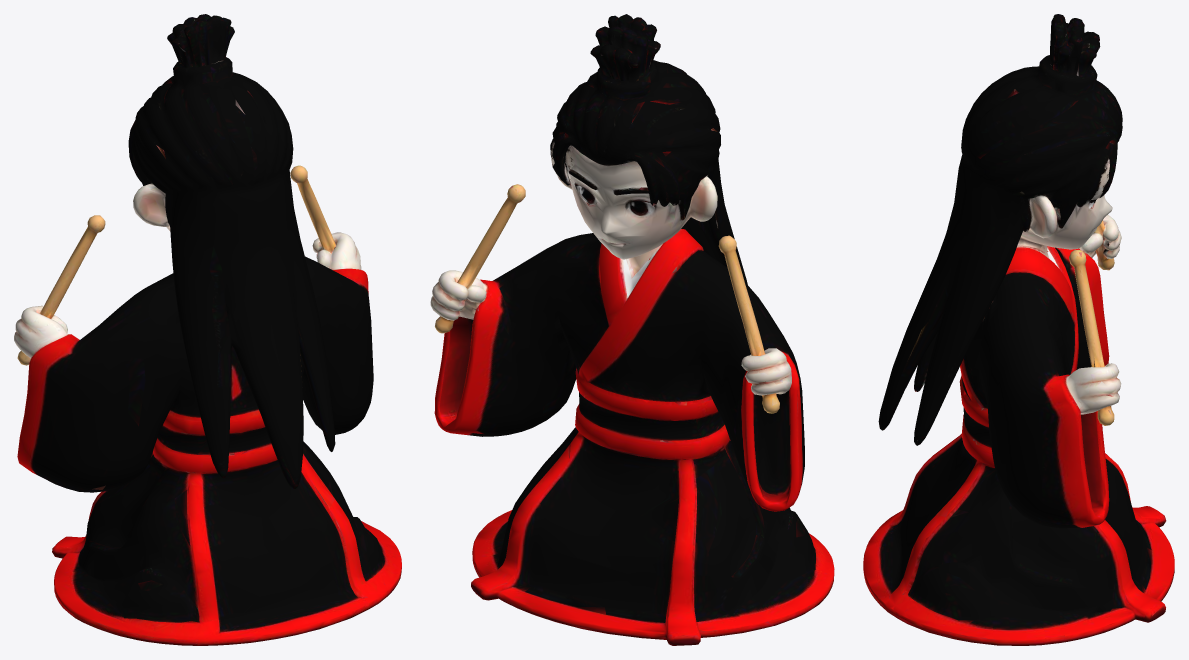
The model's file is musician.glb.
3 views of the same model, side by side, from view 1: azimuth 30°, elevation 25°; view 2: azimuth 150°, elevation 25°; view 3: azimuth 270°, elevation 25° (orthographic). The views are drawn at different scales.
Visible parts, largest first — view 1: musician; view 2: musician; view 3: musician.
Boxes of the visible parts, x1=… form: musician: x1=14, y1=14, x2=401, y2=645; musician: x1=430, y1=14, x2=834, y2=645; musician: x1=863, y1=14, x2=1174, y2=645.
Bounding box in the file's own units: 0.6713 × 1 × 0.5127.
Materials: 1 (1 with a texture image).
